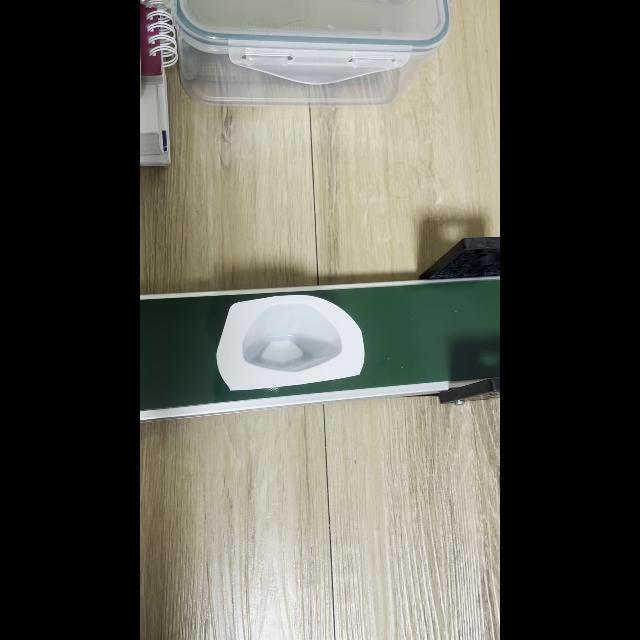clean: (225, 302, 351, 376)
